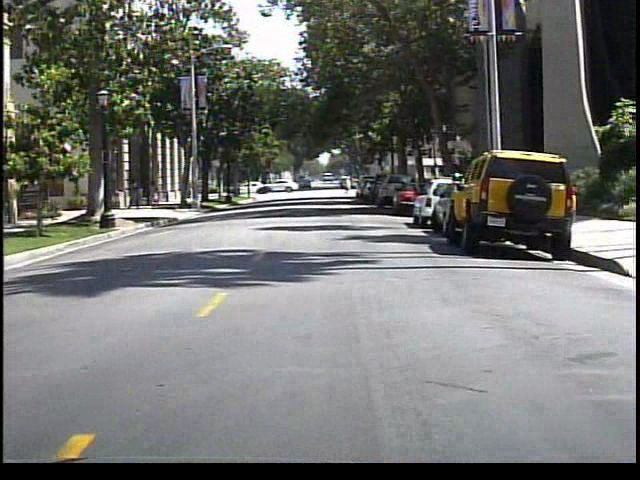person: (127, 176, 147, 210), (144, 178, 165, 210), (343, 173, 357, 195)
